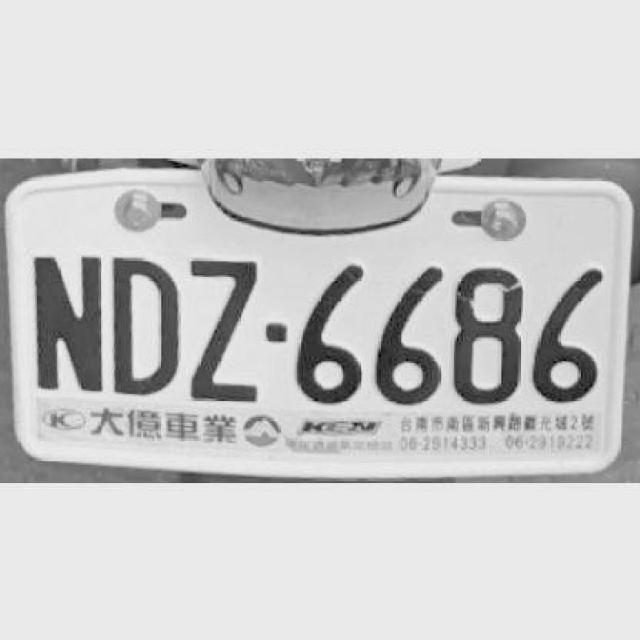-: (266, 320, 288, 343)
6: (526, 253, 606, 404), (291, 251, 366, 409), (371, 254, 446, 406)
8: (446, 256, 526, 406)
D: (108, 245, 180, 397)
N: (28, 241, 106, 394)
Z: (184, 248, 258, 402)
